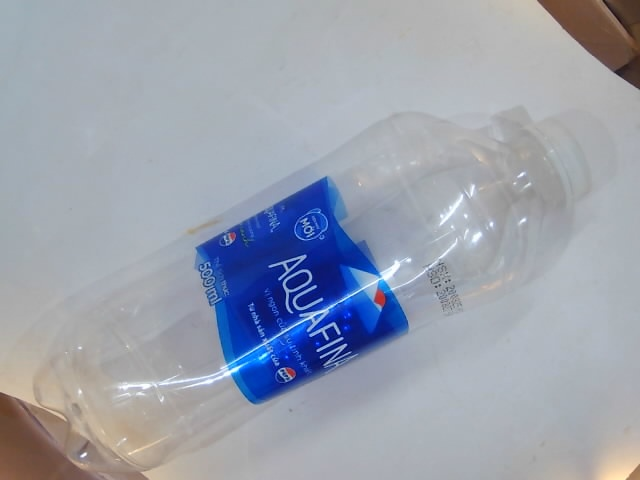plastic: (13, 110, 591, 480)
